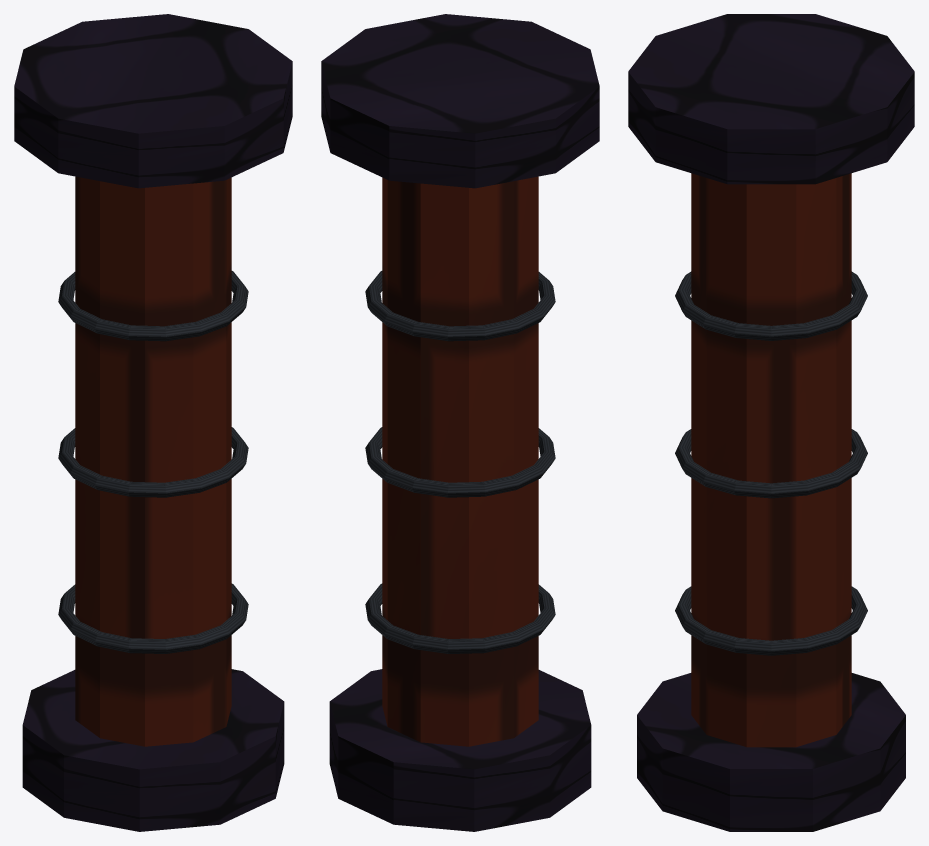
The model's file is SM_FC_Pillar_360.fbx.
3 renders of one model, left to right at view 1: azimuth 30°, elevation 25°; view 2: azimuth 150°, elevation 25°; view 3: azimuth 270°, elevation 25°, orthographic.
Parts seen in each view (by area): view 1: SM_FC_Pillar_360; view 2: SM_FC_Pillar_360; view 3: SM_FC_Pillar_360.
Part boxes in pixels (<box>): SM_FC_Pillar_360: <box>14,14,292,831</box>; SM_FC_Pillar_360: <box>321,14,599,831</box>; SM_FC_Pillar_360: <box>628,14,914,831</box>.
Size of what is drawn, in the model's own units: 1.26 by 3.59 by 1.32.
